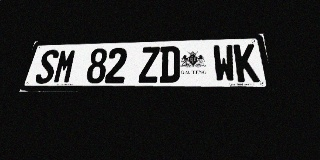2: (105, 48, 128, 83)
8: (85, 48, 109, 83)
D: (159, 46, 180, 83)
K: (233, 44, 260, 82)
M: (52, 49, 77, 84)
S: (34, 49, 60, 84)
W: (212, 44, 237, 82)
Z: (138, 47, 160, 83)
